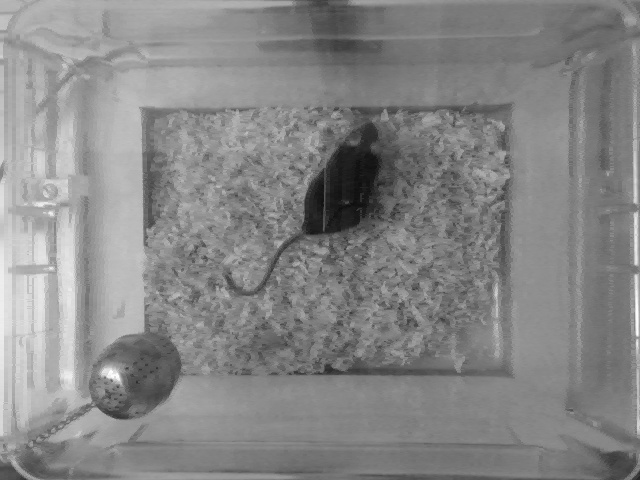mice: (225, 117, 384, 302)
